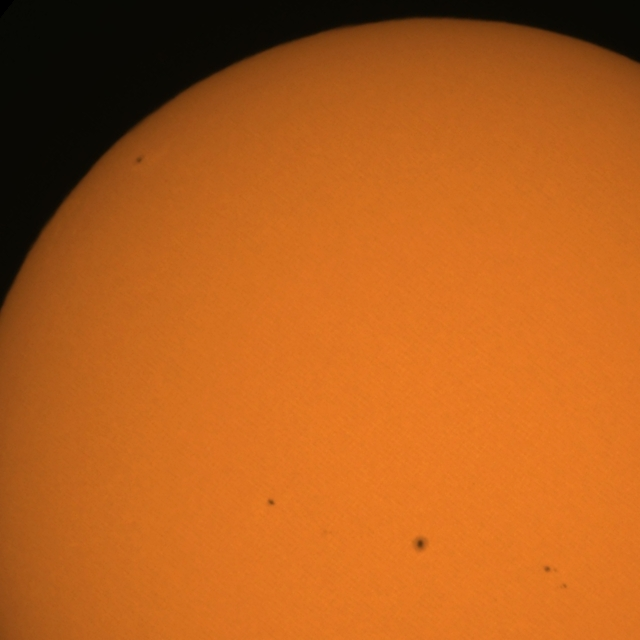sunspot: (543, 562, 568, 590), (410, 534, 430, 554), (542, 564, 560, 575), (134, 154, 144, 166), (266, 498, 276, 508), (558, 582, 568, 591)
